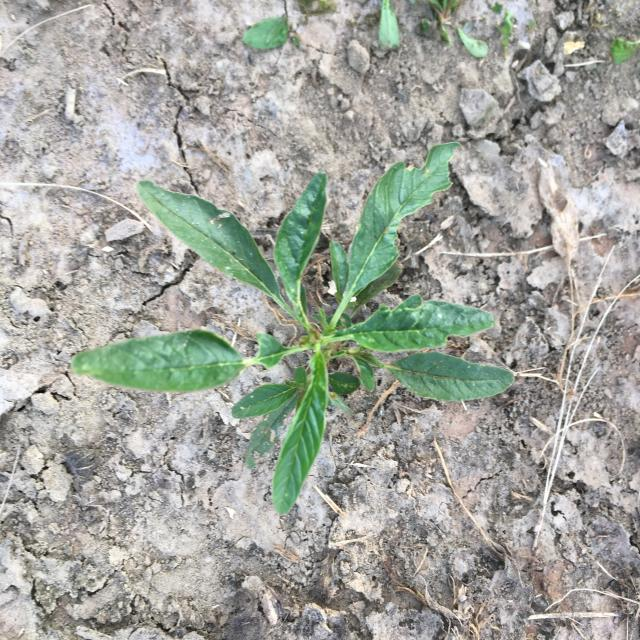Waterhemp: (71, 142, 515, 515)
